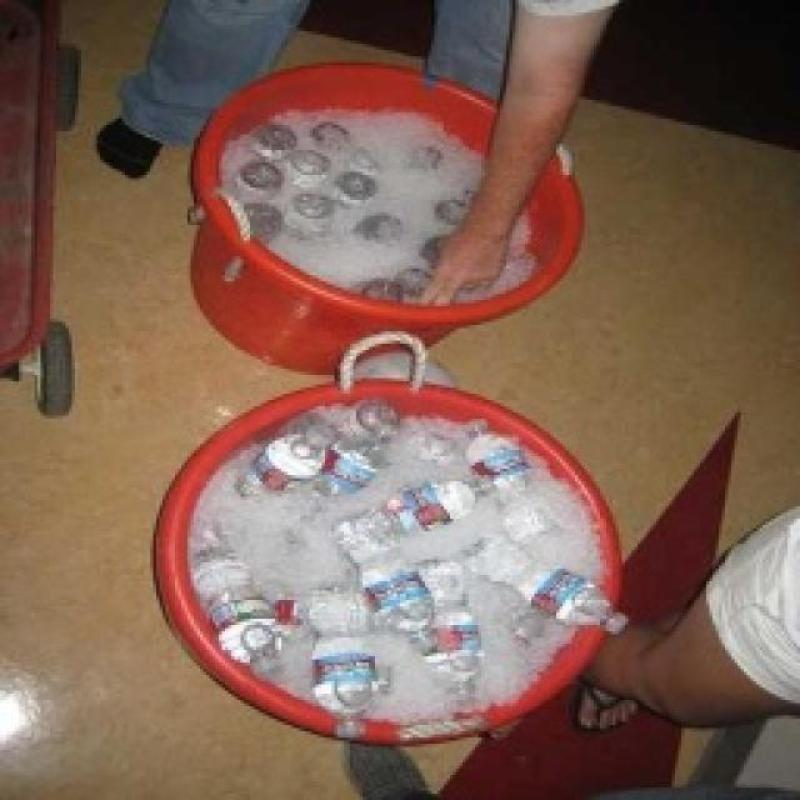botella: (469, 533, 631, 639), (328, 512, 438, 650), (330, 473, 496, 558), (407, 558, 486, 714), (186, 550, 283, 662), (310, 594, 378, 741), (466, 419, 553, 531), (239, 424, 326, 504), (325, 408, 394, 502), (272, 592, 372, 636)
